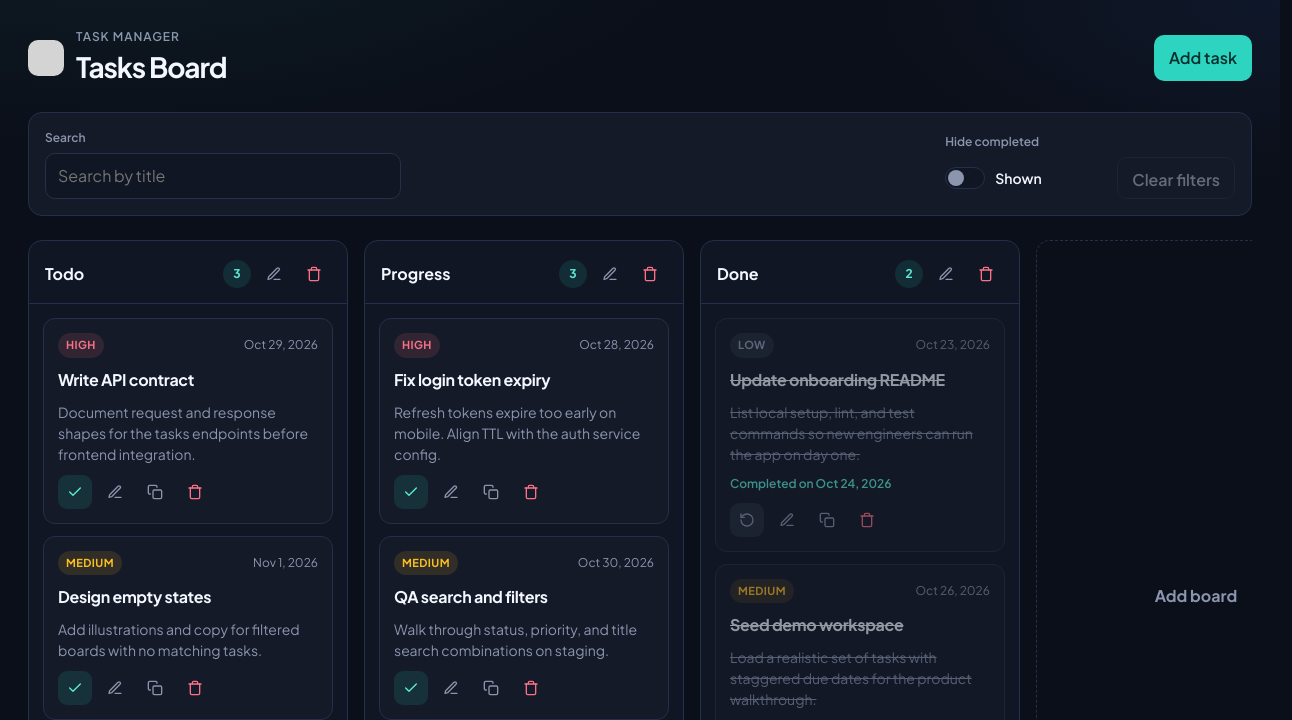
it: App › shows an empty state when nothing matches the filters
This screenshot has width=1292, height=720.
In the search field labelled "Search": (223, 176) [45,153,401,199], type "zzzz-no-match"
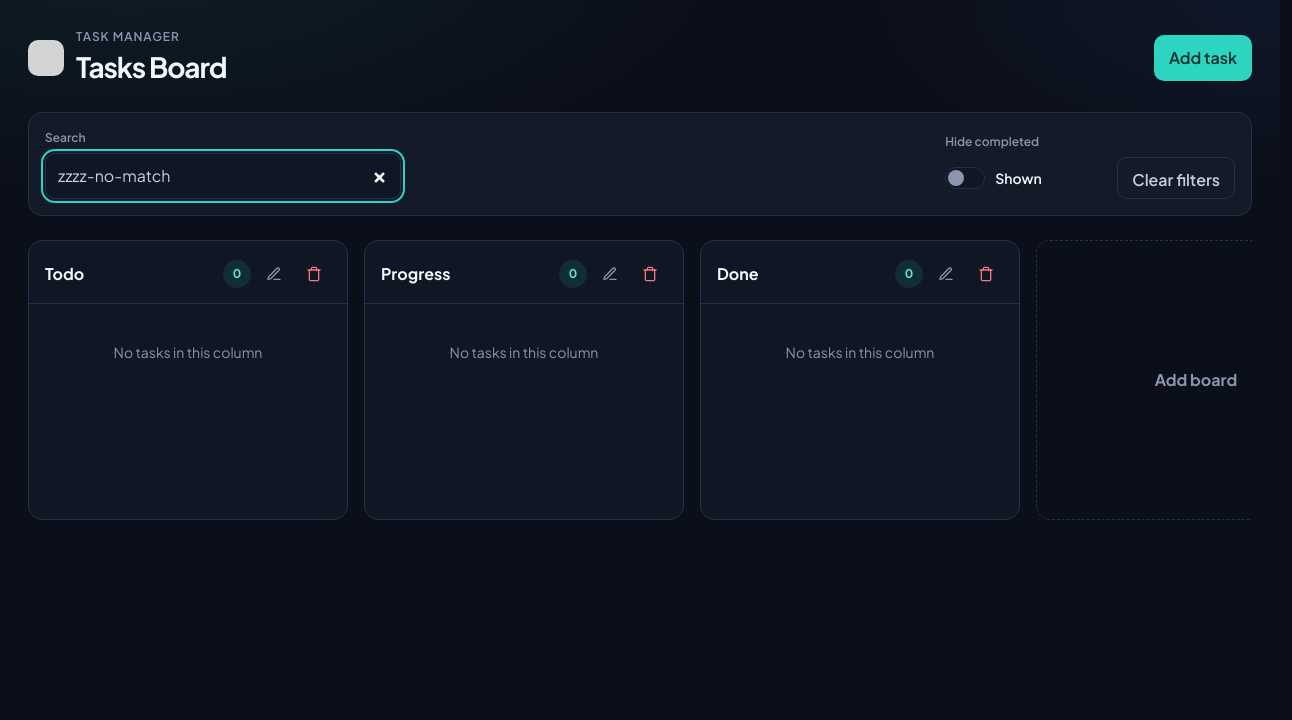
Check: the heading "Write API contract" is gone
Check: the text "No tasks in this column" is shown 3 times, box [114,343,262,361]; [450,343,598,361]; [786,343,934,361]
